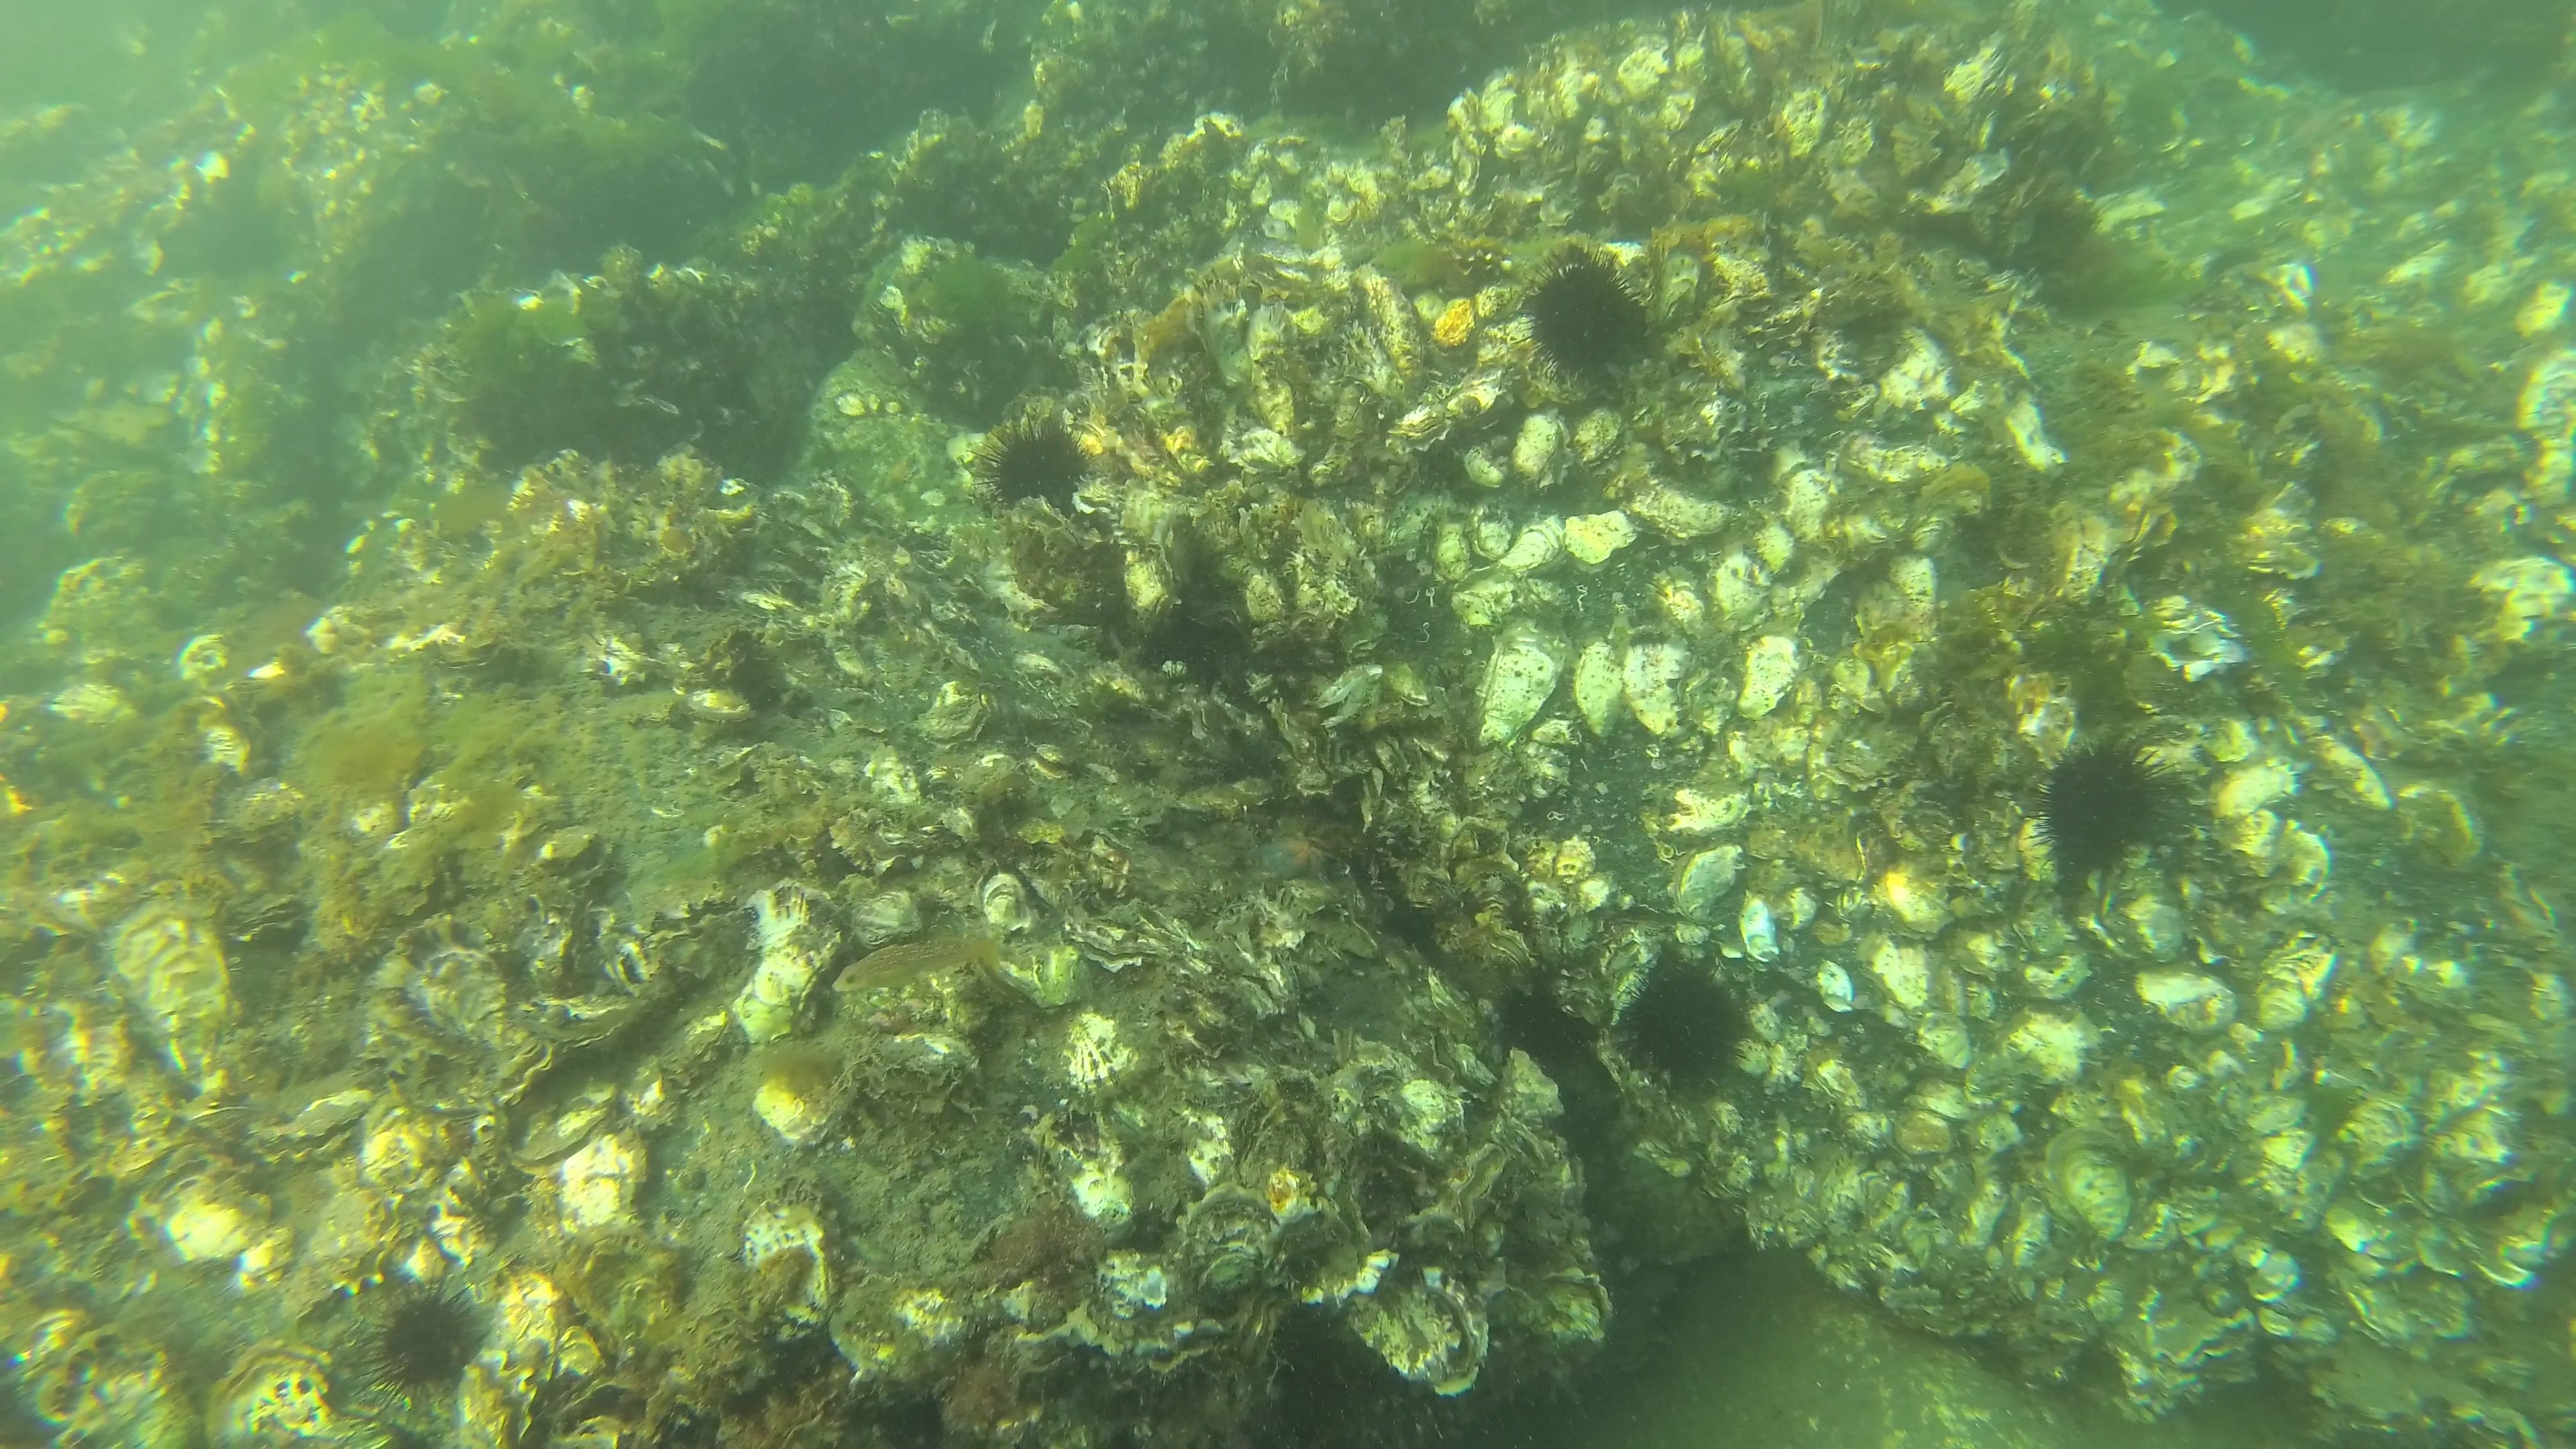echinus: (2035, 745, 2176, 890), (1523, 255, 1652, 382), (1633, 962, 1755, 1095), (368, 1292, 483, 1396), (993, 426, 1097, 522)
starfish: (1253, 832, 1343, 892)
